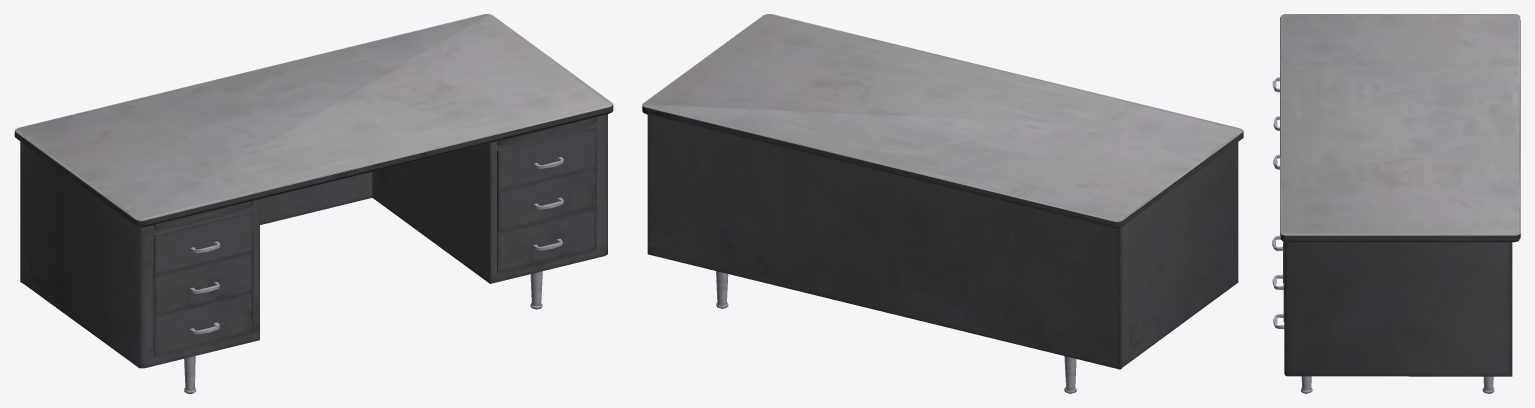
The model's file is metal_office_desk.glb.
3 renders of one model, left to right at view 1: azimuth 30°, elevation 25°; view 2: azimuth 150°, elevation 25°; view 3: azimuth 270°, elevation 25°, orthographic. The views are drawn at different scales.
Visible parts, largest first — view 1: metal_office_desk_drawer_06; view 2: metal_office_desk_drawer_06; view 3: metal_office_desk_drawer_06.
Part boxes in pixels (box(x1,y1,x2,y2)): metal_office_desk_drawer_06: box(14, 14, 613, 393); metal_office_desk_drawer_06: box(642, 14, 1243, 393); metal_office_desk_drawer_06: box(1272, 14, 1520, 393).
Bounding box in the file's own units: 2 × 0.7867 × 0.9469.
1 material, 1 textured.
